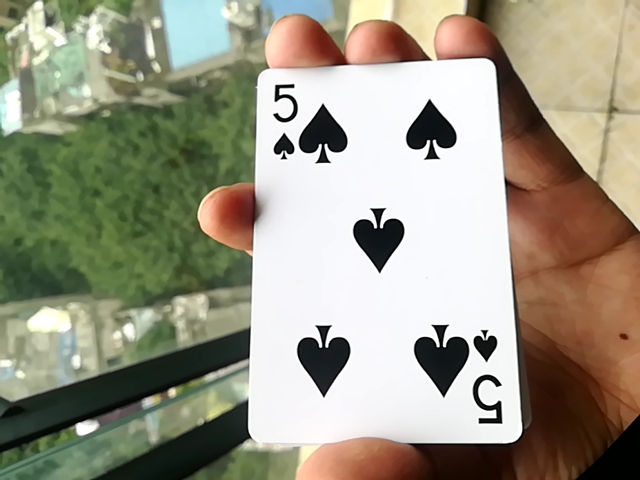ht 5: (234, 59, 522, 450)
